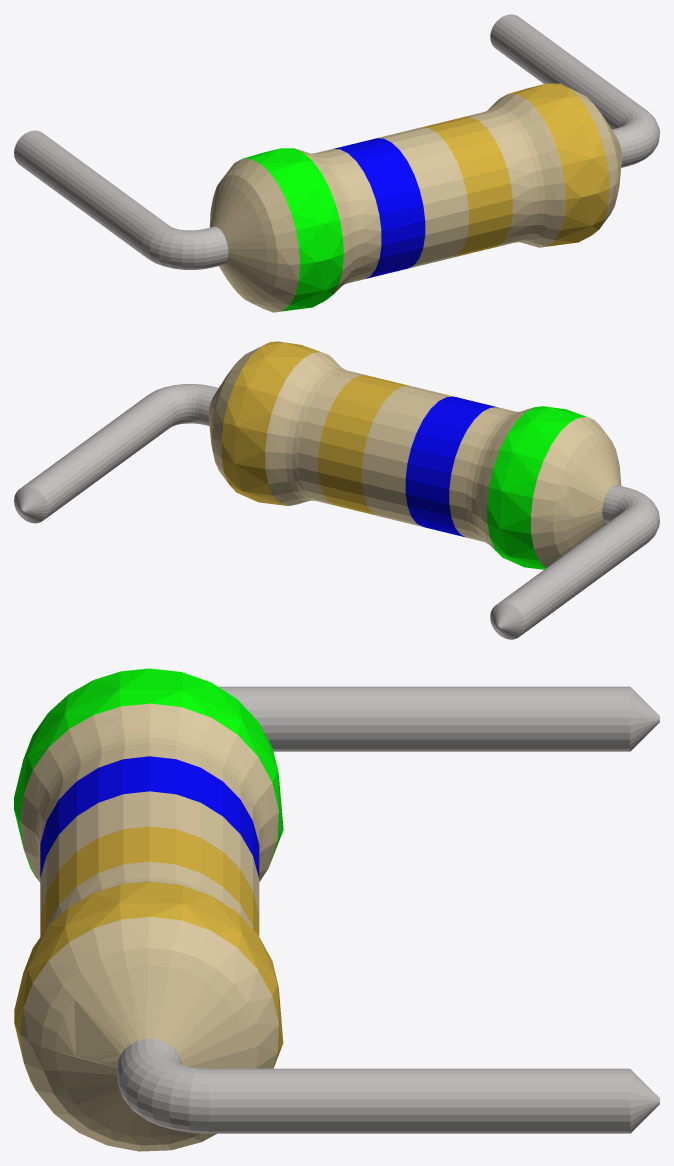
File: Yageo CFR-25 Resistor Axial P7.62mm 5,6 Ohm.obj
The picture shows the model from 3 angles, top to bottom: view 1: azimuth 30°, elevation 25°; view 2: azimuth 150°, elevation 25°; view 3: azimuth 270°, elevation 25°; orthographic projection. The views are drawn at different scales.
Visible parts, largest first — view 1: Yageo_CFR-25_Resistor_Axial_P7.62mm_5,6_Ohm; view 2: Yageo_CFR-25_Resistor_Axial_P7.62mm_5,6_Ohm; view 3: Yageo_CFR-25_Resistor_Axial_P7.62mm_5,6_Ohm.
Part boxes in pixels (<box>): Yageo_CFR-25_Resistor_Axial_P7.62mm_5,6_Ohm: <box>14,14,659,312</box>; Yageo_CFR-25_Resistor_Axial_P7.62mm_5,6_Ohm: <box>14,341,659,639</box>; Yageo_CFR-25_Resistor_Axial_P7.62mm_5,6_Ohm: <box>14,668,659,1151</box>.
Size of the model in its own units: 0.0112 by 0.00308 by 0.00743.
